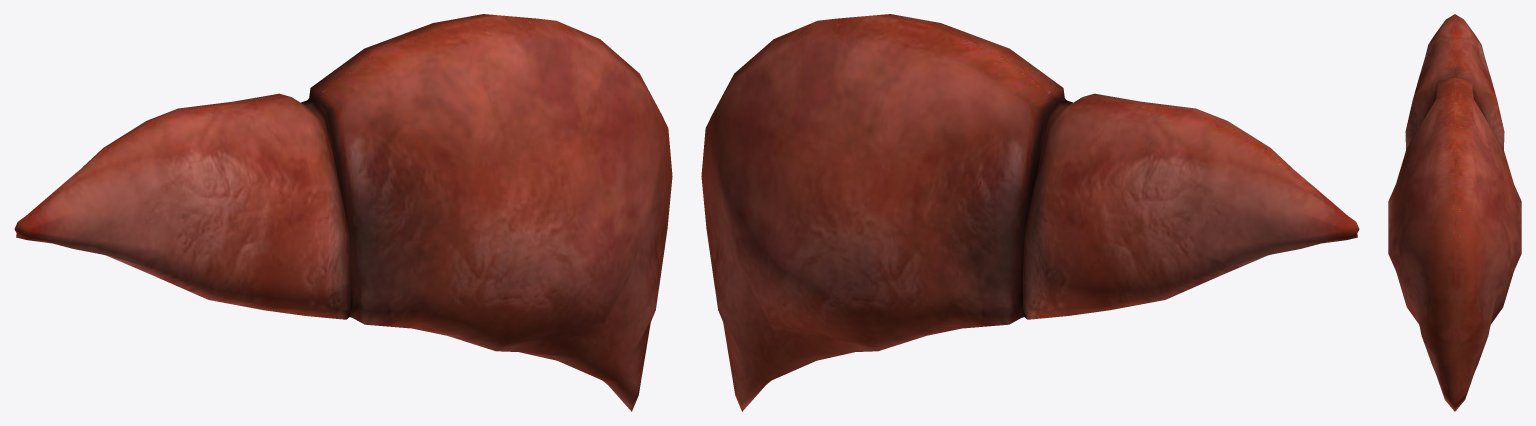
The picture shows the model from 3 angles, left to right: view 1: azimuth 30°, elevation 25°; view 2: azimuth 150°, elevation 25°; view 3: azimuth 270°, elevation 25°; orthographic projection. The views are drawn at different scales.
Parts seen in each view (by area): view 1: Liver1a; view 2: Liver1a; view 3: Liver1a.
Boxes of the visible parts, x1,y1,x2,y2 form: Liver1a: [14, 14, 672, 411]; Liver1a: [701, 14, 1359, 411]; Liver1a: [1388, 14, 1521, 411].
Size of the model in its own units: 143 by 90.31 by 41.2.
Materials: 1 (1 with a texture image).
